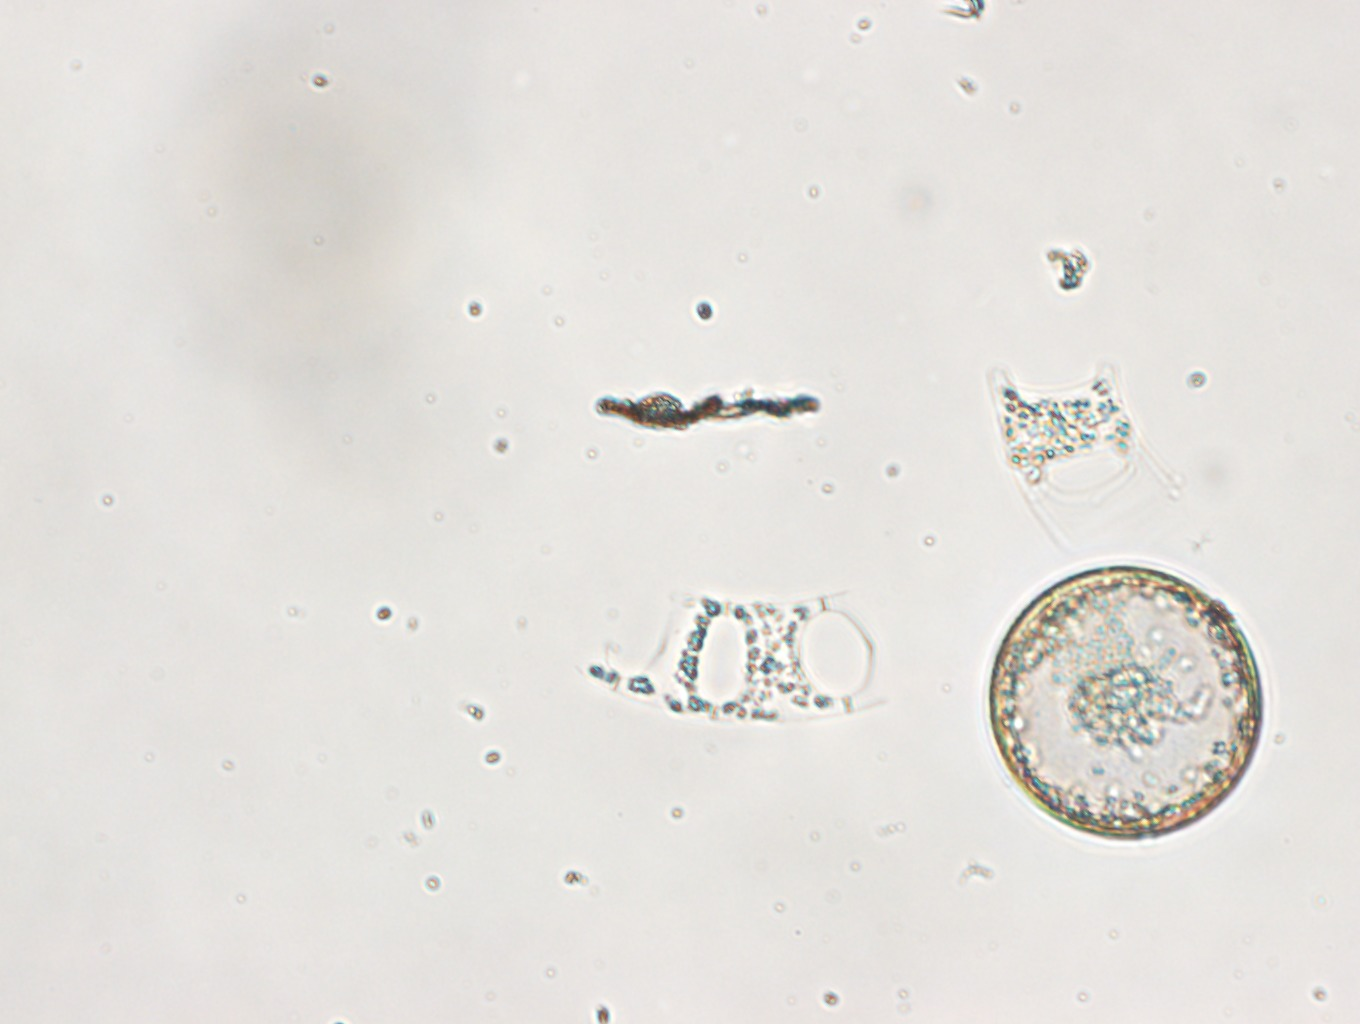coscinodiscus: (984, 566, 1268, 845)
eucampia: (585, 569, 907, 743), (973, 360, 1182, 551)
